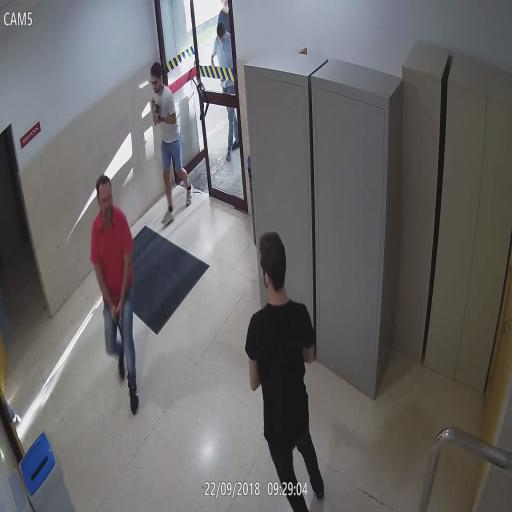Handgun: (110, 306, 124, 344)
